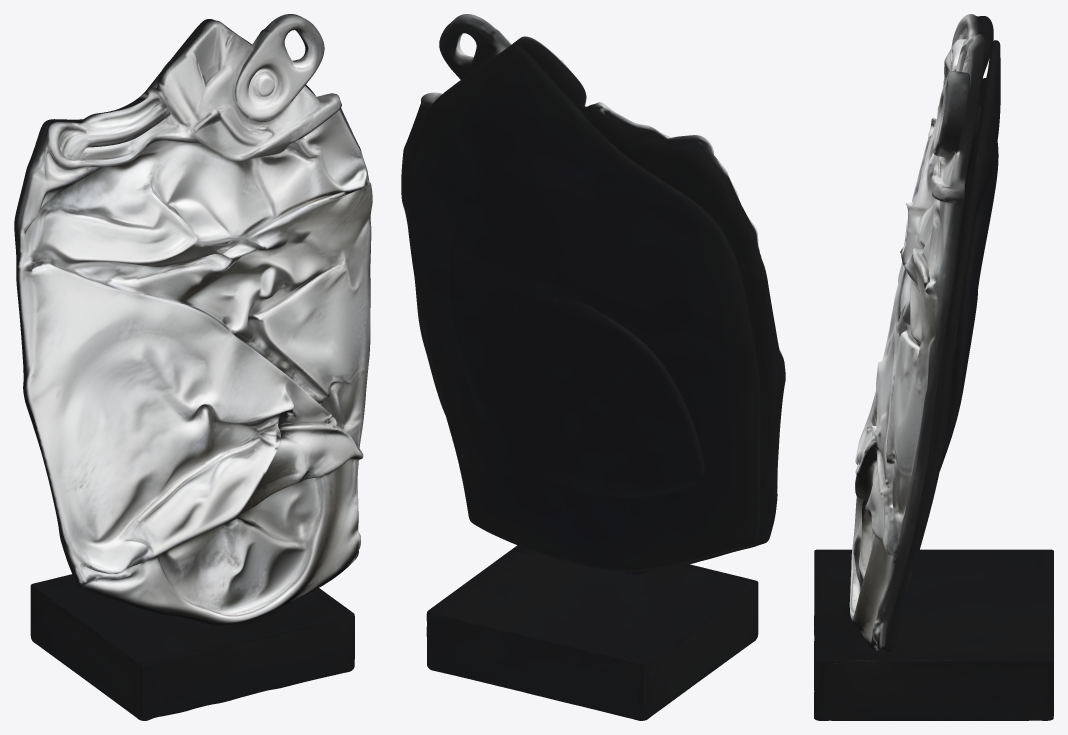
The model's file is you-can-call-me-ai-ar-light.glb.
The picture shows the model from 3 angles, left to right: view 1: azimuth 30°, elevation 25°; view 2: azimuth 150°, elevation 25°; view 3: azimuth 270°, elevation 25°; orthographic projection. The views are drawn at different scales.
Visible parts, largest first — view 1: material; view 2: material; view 3: material.
Part boxes in pixels (<box>): material: <box>14,14,372,720</box>; material: <box>401,14,785,720</box>; material: <box>814,14,1053,720</box>.
Bounding box in the file's own units: 0.6678 × 1.08 × 0.3593.
Materials: 1 (1 with a texture image).
